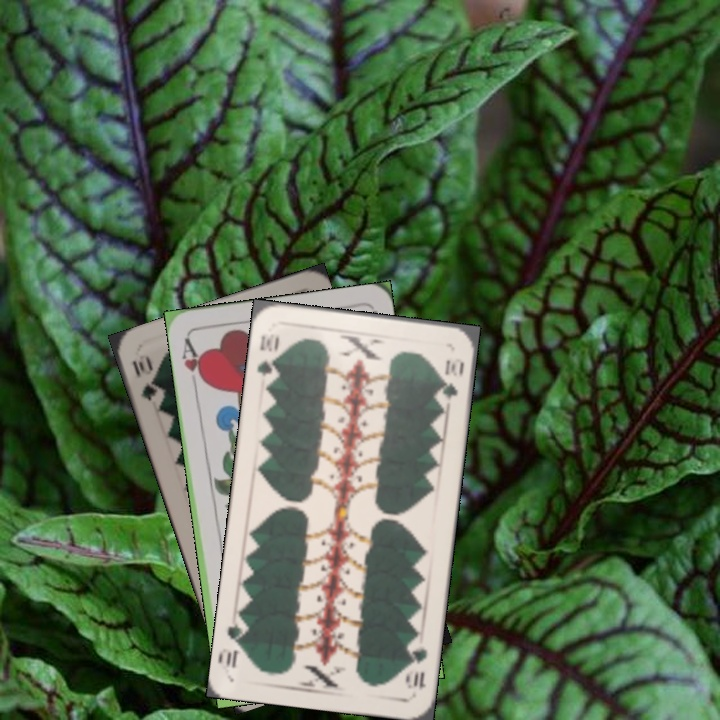G10: (128, 352, 162, 404), (253, 331, 282, 386), (402, 644, 430, 692)
HA: (178, 333, 208, 392)
